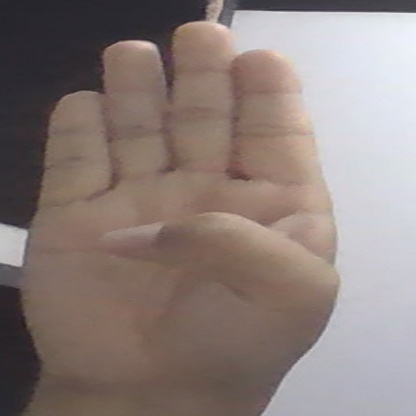B: (21, 22, 336, 398)
